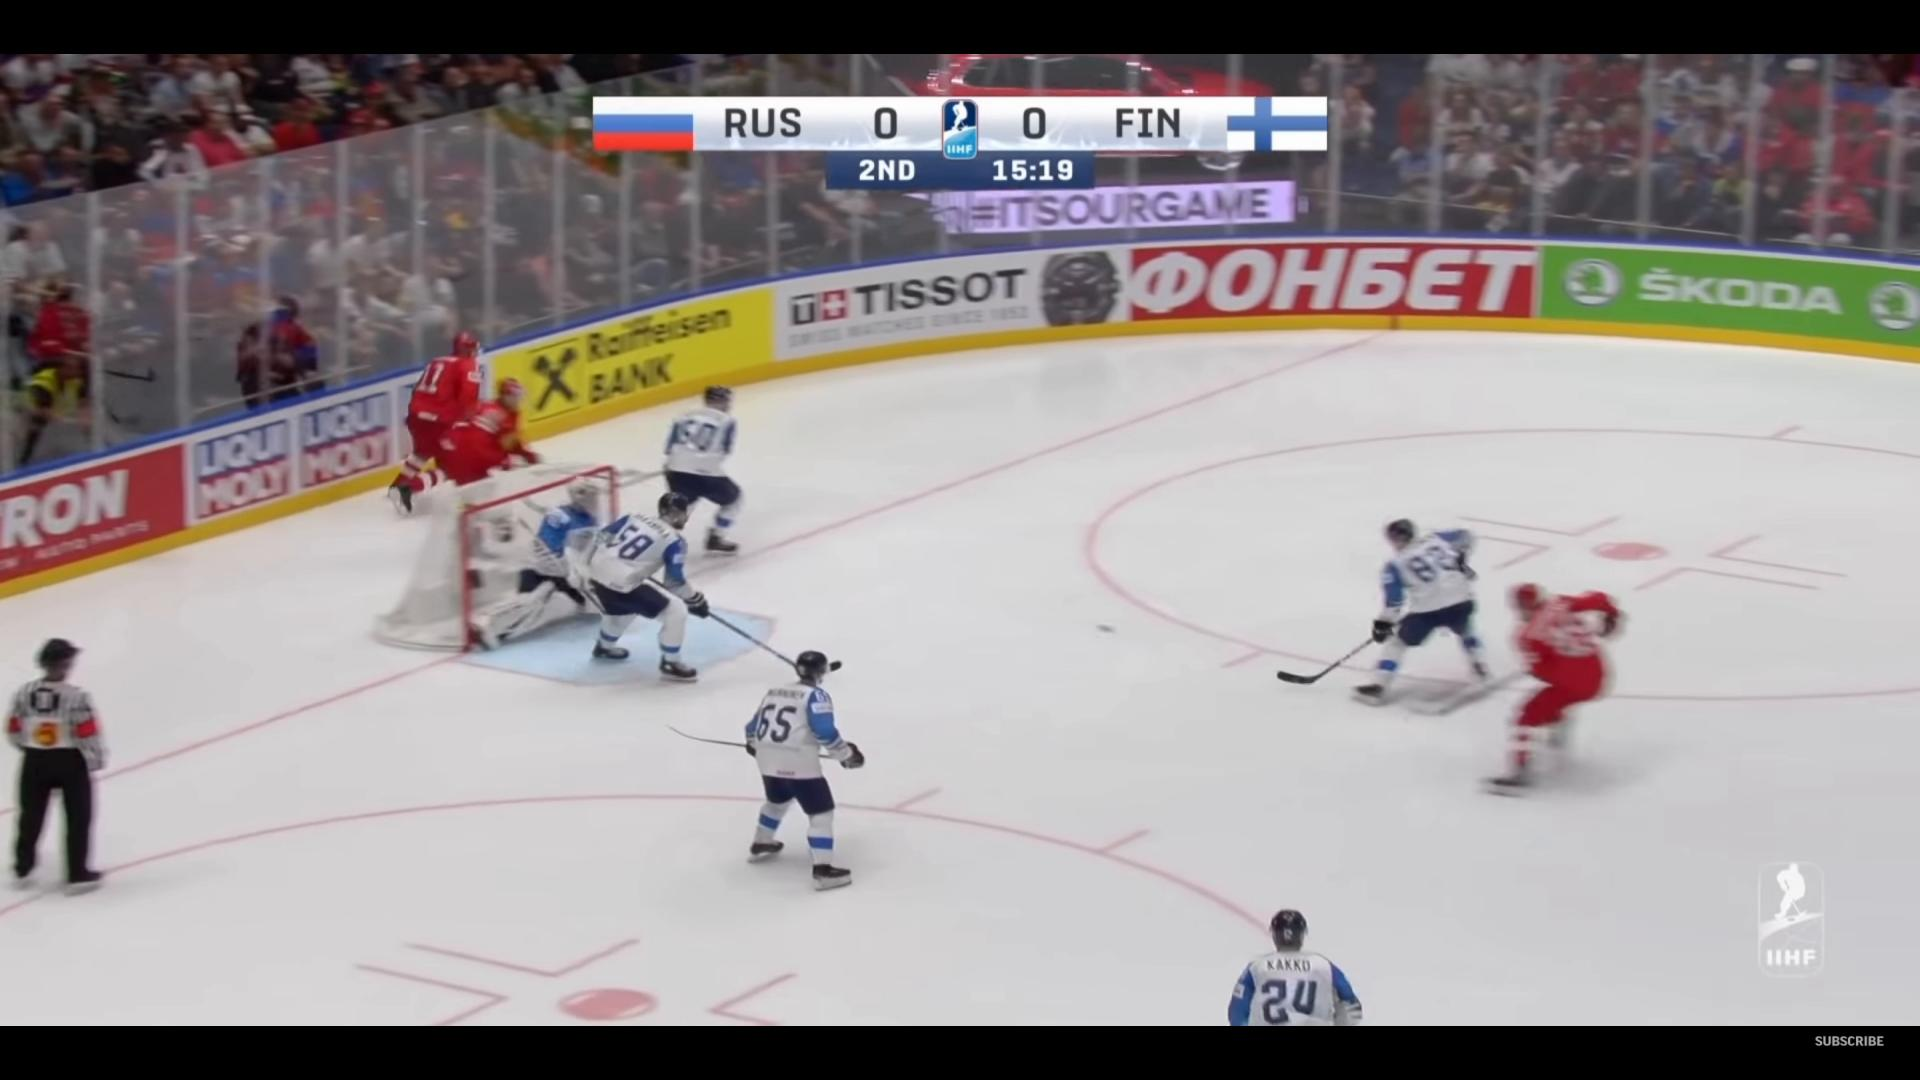puck: (1093, 622, 1114, 632)
